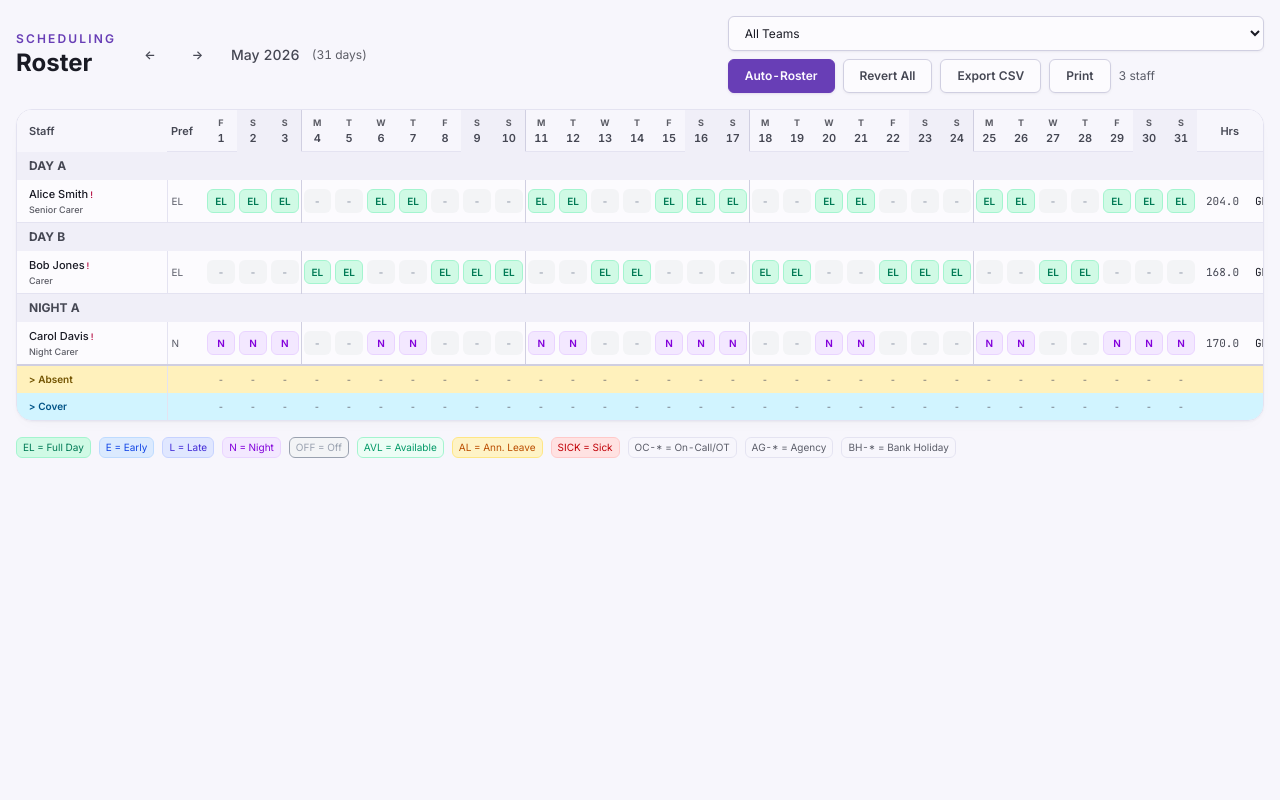
RotationGrid › Revert All button opens confirmation modal
Click the button "Revert All": point(888, 76) [843,59,932,93]
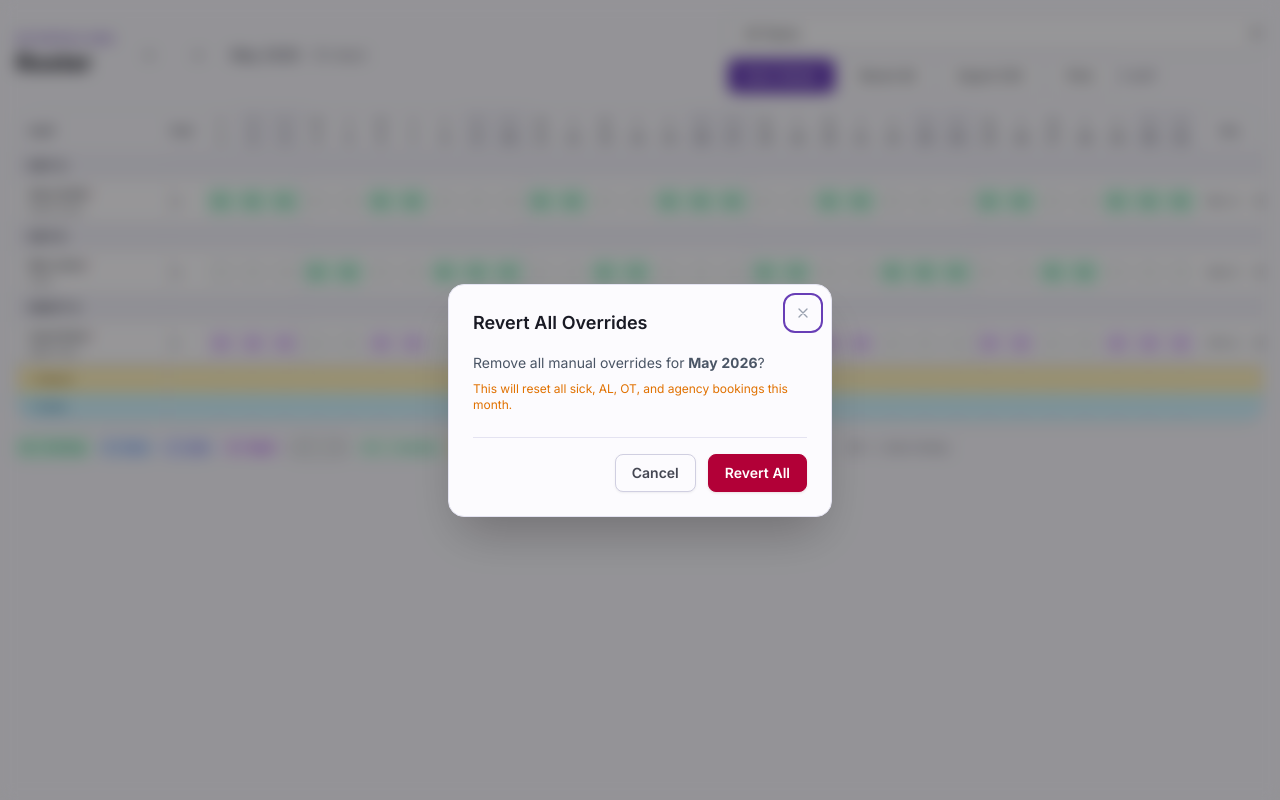
Now the dialog is shown
Now the text "Remove all manual overrides for May 2026?" is shown, box [473,352,807,372]
